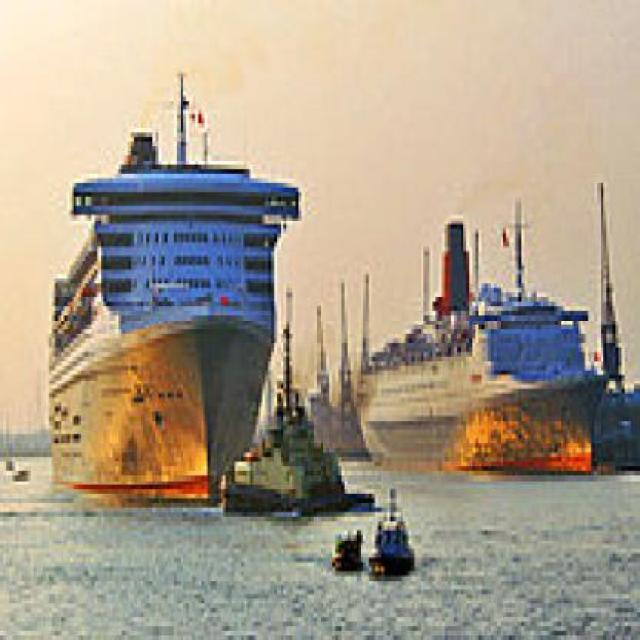cruise: (40, 60, 316, 517), (348, 207, 626, 481)
